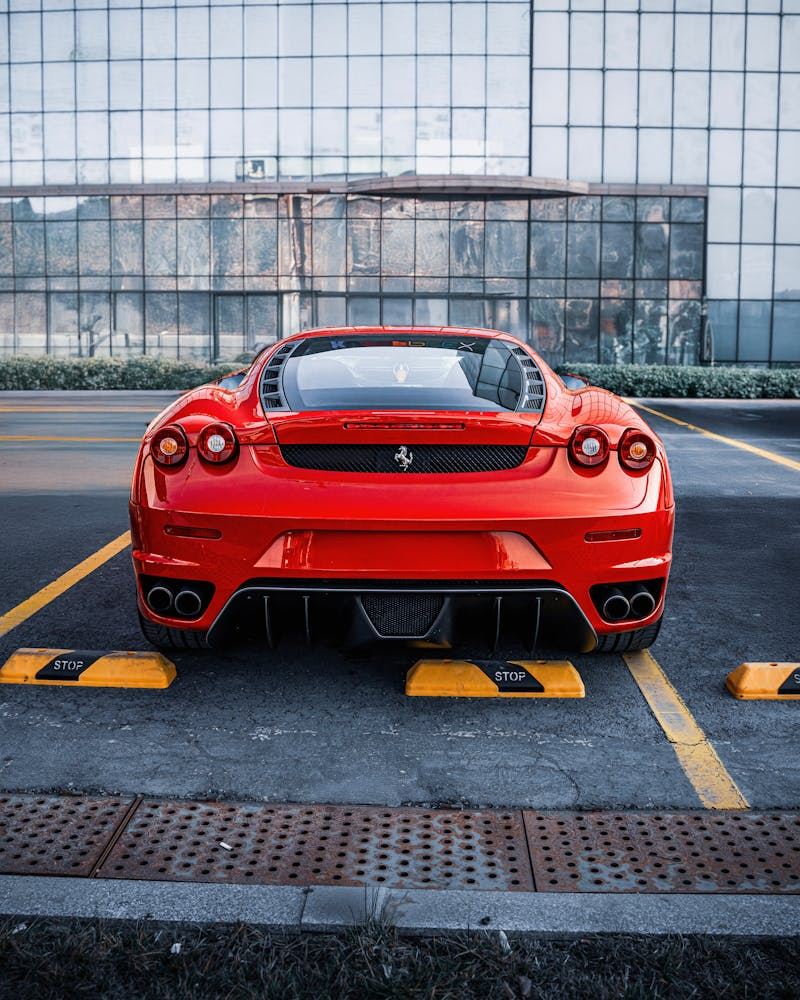su7: (131, 323, 665, 666)
